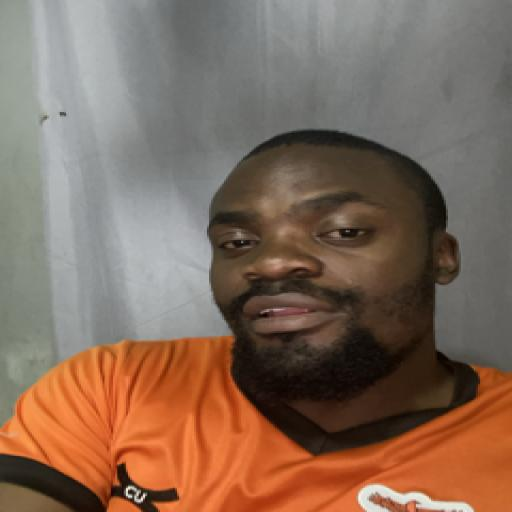JEANLUC: (193, 115, 475, 406)
